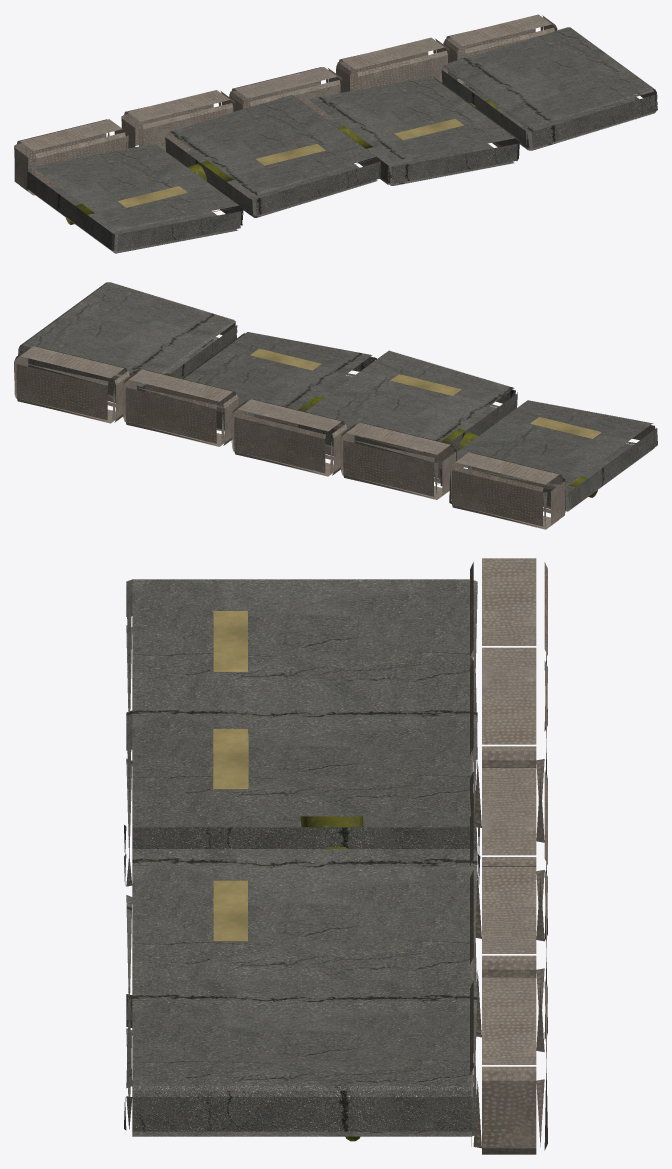
File: lod2_NOT_APPROVED.glb
3 renders of one model, top to bottom at view 1: azimuth 30°, elevation 25°; view 2: azimuth 150°, elevation 25°; view 3: azimuth 270°, elevation 25°, orthographic. The views are drawn at different scales.
Parts seen in each view (by area): view 1: f3_broken_asphalt_surface, f3_weathered_concrete_surface, f3_faded_safety_ochre_surface, f3_damp_concrete_surface; view 2: f3_broken_asphalt_surface, f3_weathered_concrete_surface, f3_faded_safety_ochre_surface, f3_damp_concrete_surface; view 3: f3_broken_asphalt_surface, f3_weathered_concrete_surface, f3_faded_safety_ochre_surface, f3_damp_concrete_surface.
Boxes of the visible parts, bbox=[...] form: f3_broken_asphalt_surface: bbox=[26, 27, 657, 253]; f3_weathered_concrete_surface: bbox=[14, 14, 557, 195]; f3_faded_safety_ochre_surface: bbox=[118, 118, 463, 207]; f3_damp_concrete_surface: bbox=[66, 100, 499, 224]; f3_broken_asphalt_surface: bbox=[18, 282, 657, 511]; f3_weathered_concrete_surface: bbox=[14, 346, 565, 529]; f3_faded_safety_ochre_surface: bbox=[250, 348, 600, 438]; f3_damp_concrete_surface: bbox=[165, 373, 597, 497]; f3_broken_asphalt_surface: bbox=[124, 579, 480, 1136]; f3_weathered_concrete_surface: bbox=[470, 558, 547, 1154]; f3_faded_safety_ochre_surface: bbox=[213, 611, 248, 941]; f3_damp_concrete_surface: bbox=[300, 816, 363, 1141].
Bounding box in the file's own units: 3.71 × 0.3324 × 1.25.
Materials: 4 (4 with a texture image).
